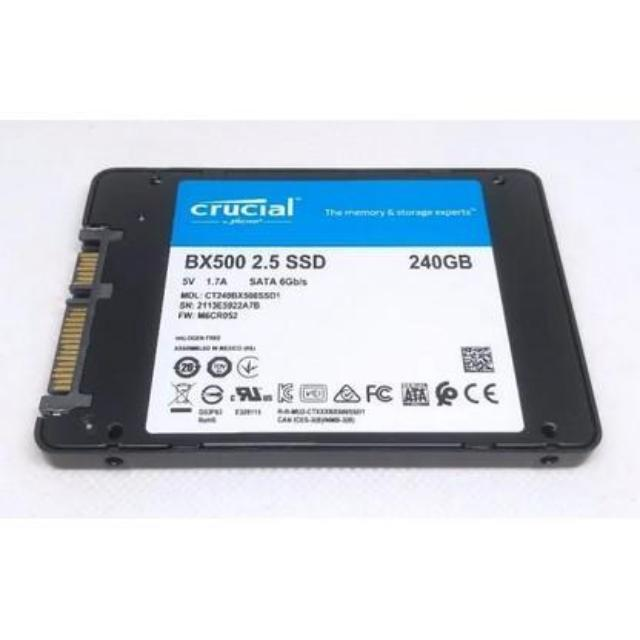DISK: (39, 158, 602, 474)
